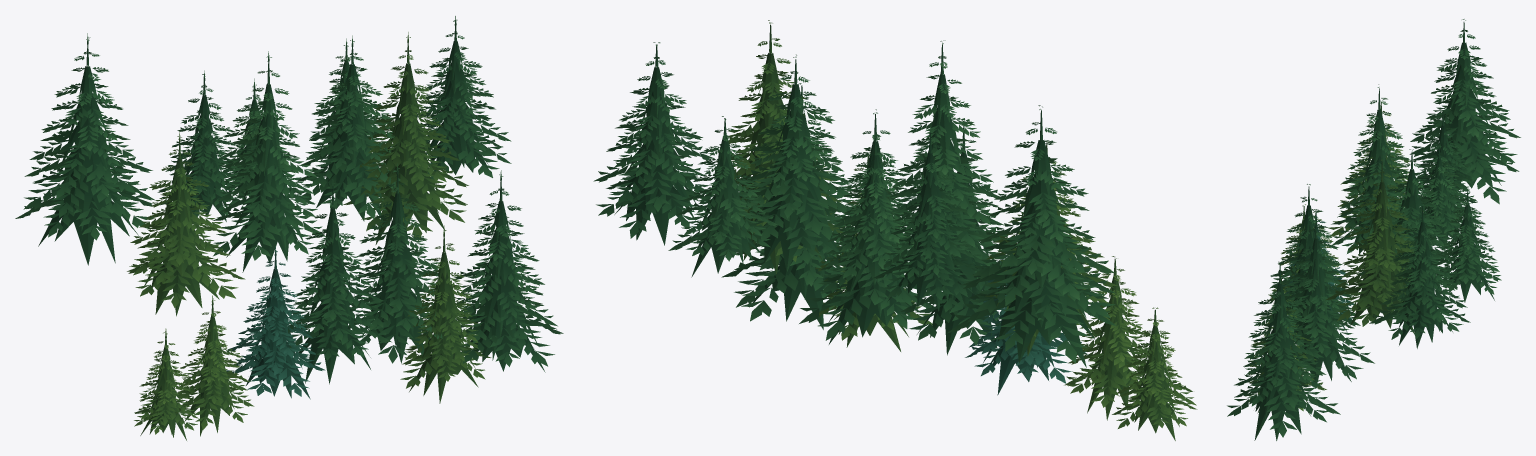
3 views of the same model, side by side, from view 1: azimuth 30°, elevation 25°; view 2: azimuth 150°, elevation 25°; view 3: azimuth 270°, elevation 25° (orthographic). The views are drawn at different scales.
Visible parts, largest first — view 1: pn_8; view 2: pn_8; view 3: pn_8.
Boxes of the visible parts, x1,y1,x2,y2 form: pn_8: (15,16,563,440); pn_8: (593,20,1197,440); pn_8: (1227,19,1520,440).
Bounding box in the file's own units: 36.46 × 26.38 × 24.18.
1 material, 1 textured.
